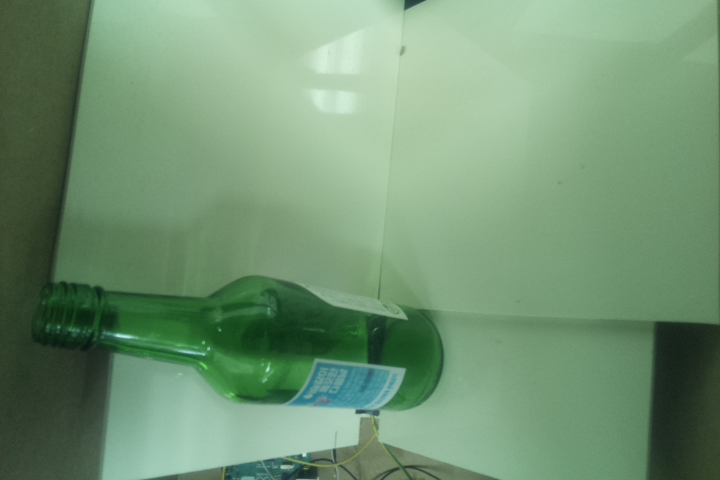soju: (28, 273, 444, 411)
